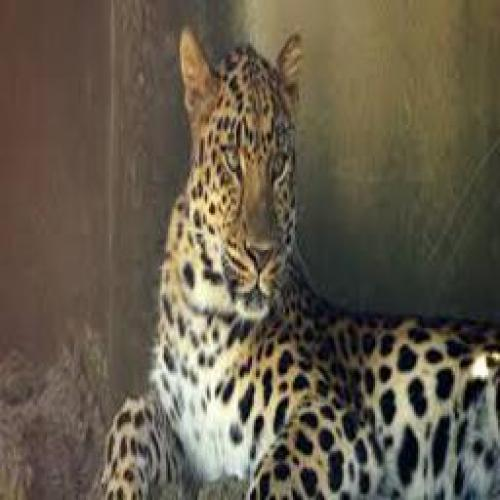amur_leopard-endangered: (94, 29, 500, 500)
